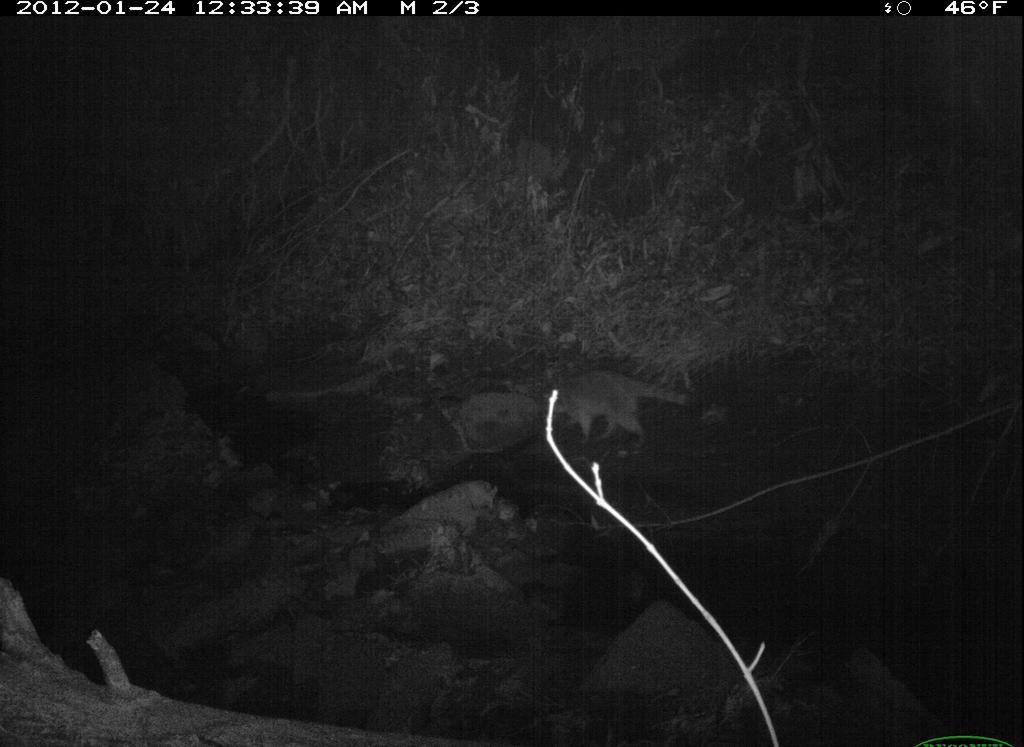raccoon: (539, 372, 702, 455)
